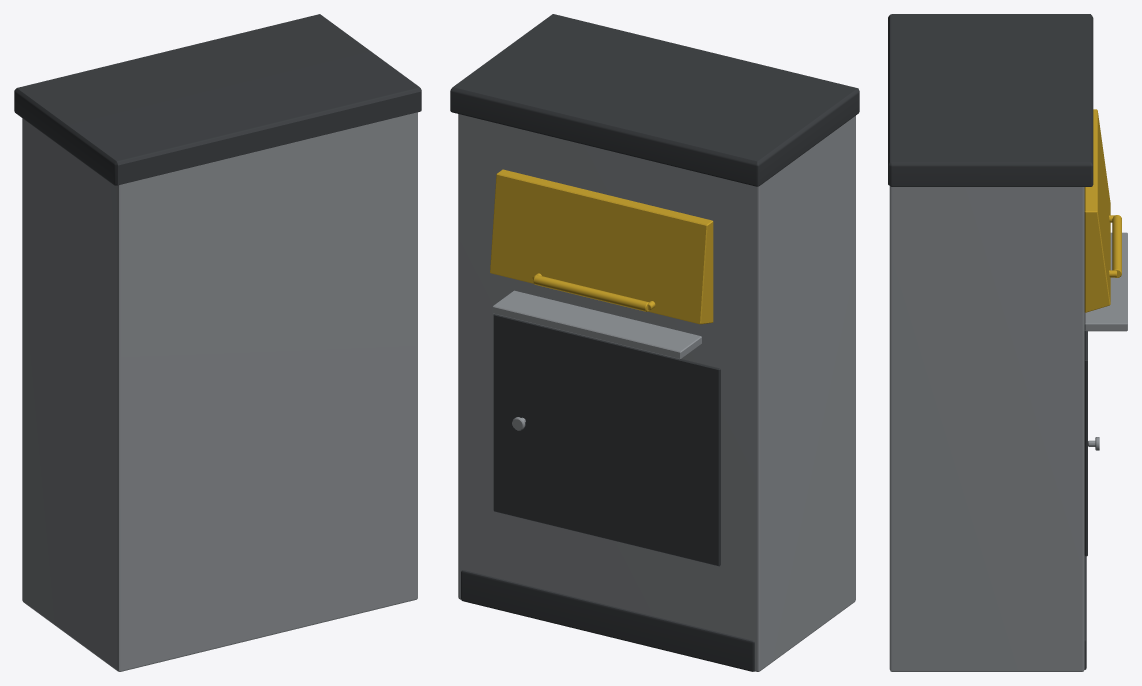
File: prop_night_drop.glb
3 renders of one model, left to right at view 1: azimuth 30°, elevation 25°; view 2: azimuth 150°, elevation 25°; view 3: azimuth 270°, elevation 25°, orthographic.
Visible parts, largest first — view 1: NightDrop; view 2: NightDrop; view 3: NightDrop.
Part boxes in pixels (box(x1,y1,x2,y2)): NightDrop: box(14, 14, 421, 671); NightDrop: box(450, 14, 859, 671); NightDrop: box(888, 14, 1127, 671).
Size of what is drawn, in the model's own units: 0.82 by 1.3 by 0.554.
